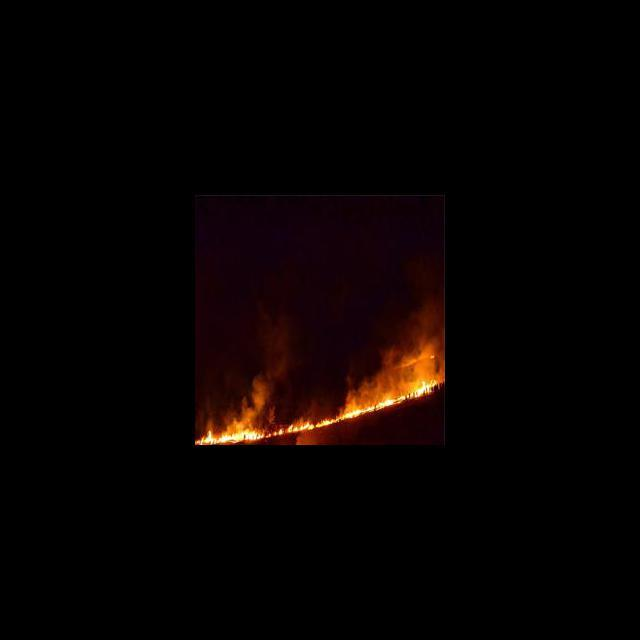Fire: (195, 377, 445, 445)
